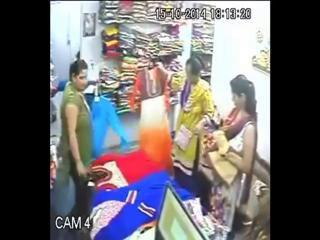Normal: (196, 74, 258, 232), (50, 59, 96, 240), (171, 56, 217, 178), (84, 70, 134, 158)
